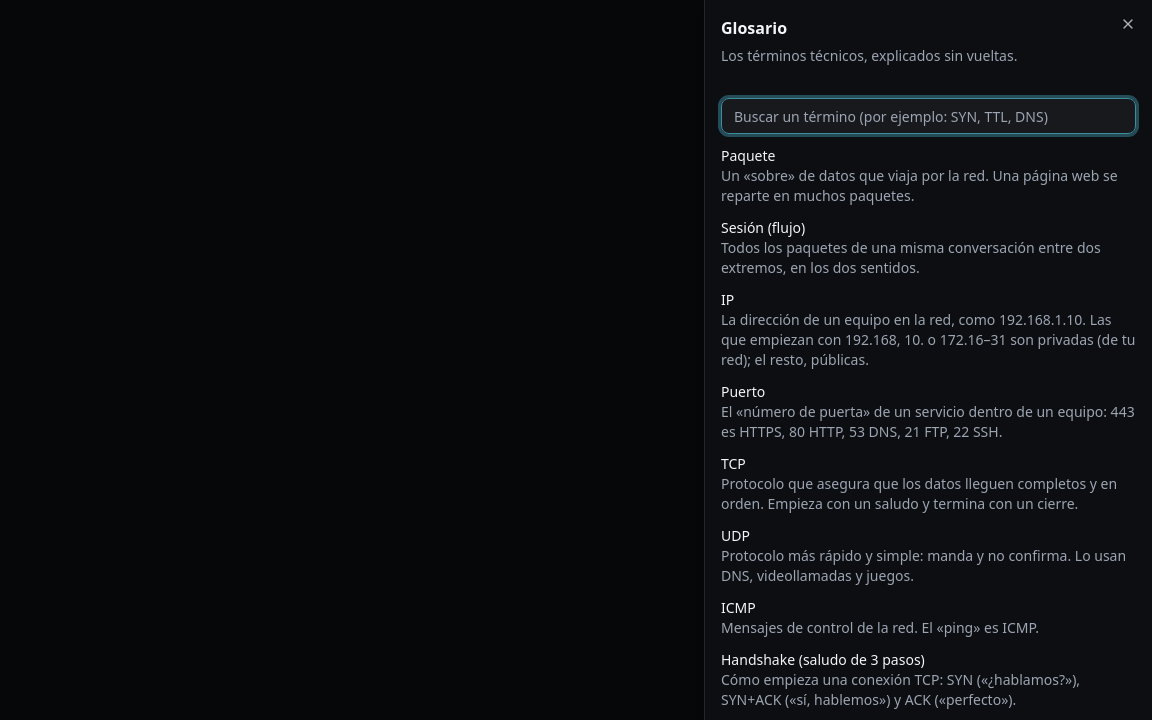
Scenario: Glossary › cerrado no muestra nada; abierto lista términos y filtra
This screenshot has width=1152, height=720.
Expected: the dialog "Glosario" is shown, [704,0,1151,719]
Expected: the text "Paquete" is shown, [721,146,775,165]
Step 1. Type "nxdomain" into the search field named "Buscar en el glosario" → (928, 116), box [721,98,1136,134]
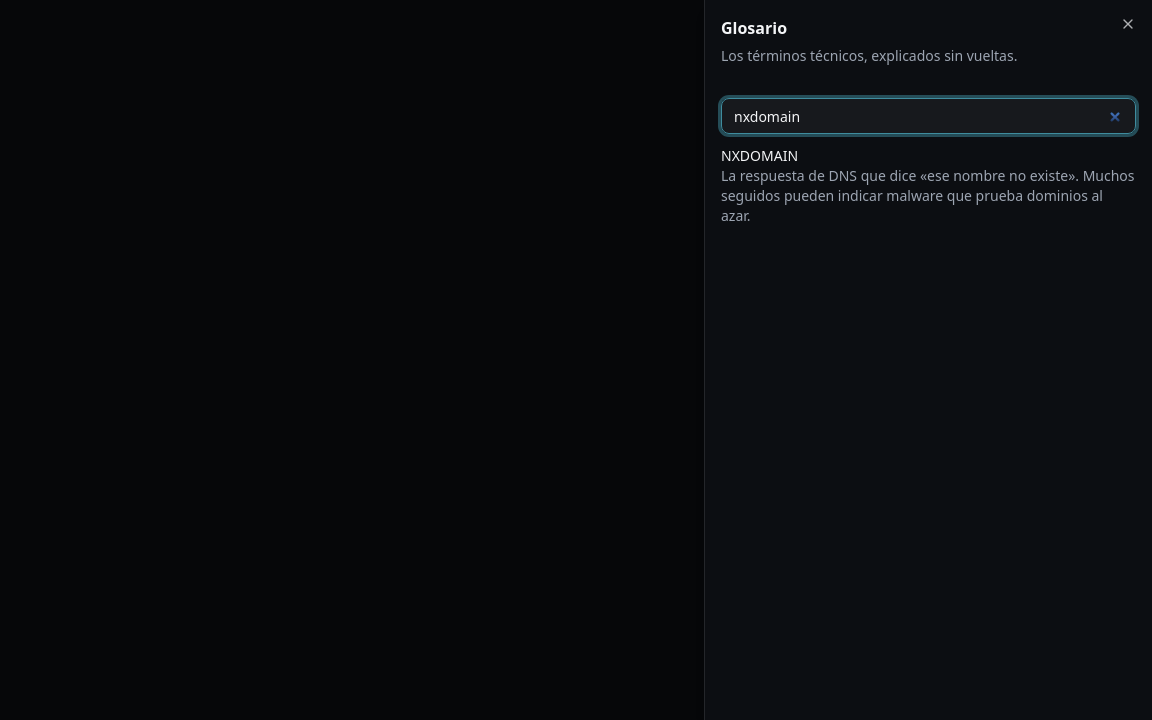
Expected: the text "NXDOMAIN" is shown, [721,146,798,165]
Expected: the text "Paquete" is gone
Step 2. Replace the text in the search field named "Buscar en el glosario" with "zzzz" → (928, 116), box [721,98,1136,134]
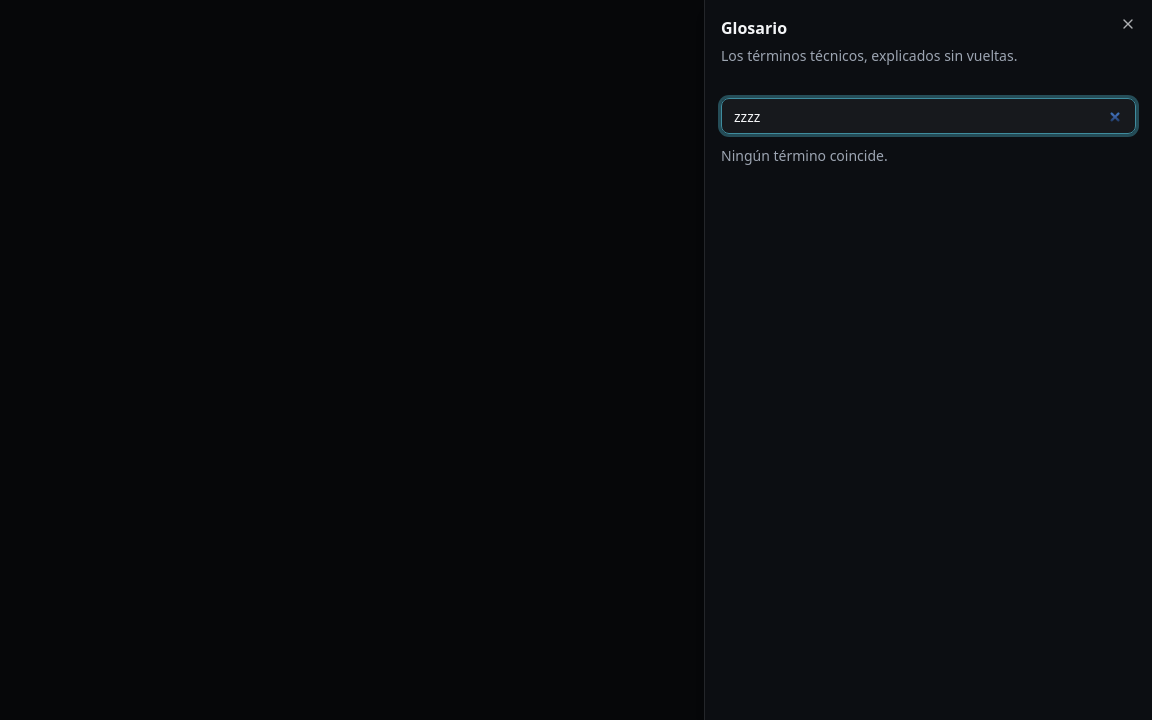
Expected: the text "Ningún término coincide." is shown, [721,146,888,165]
